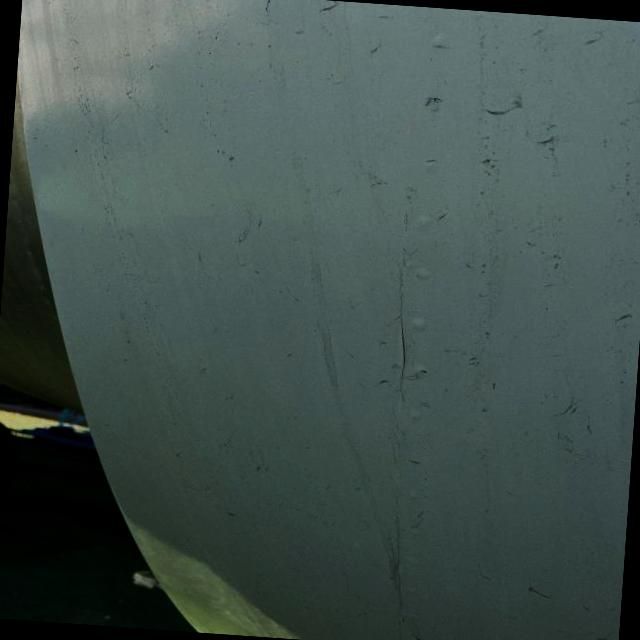crack: (367, 276, 427, 431)
